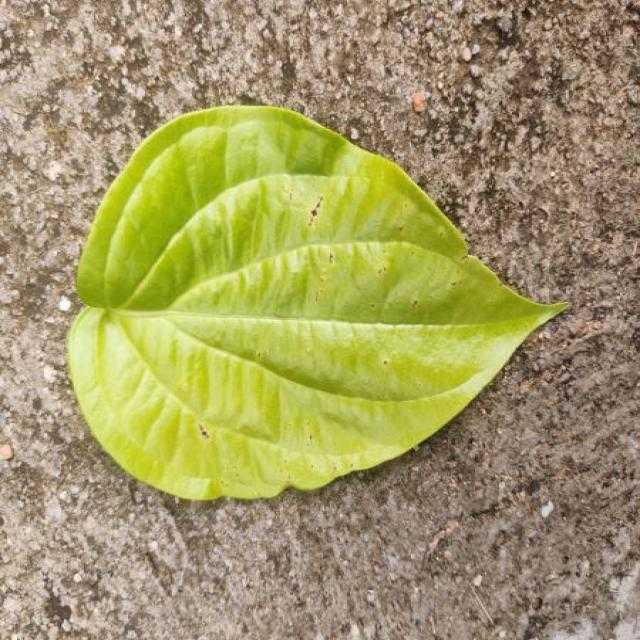betel: (68, 106, 567, 499)
